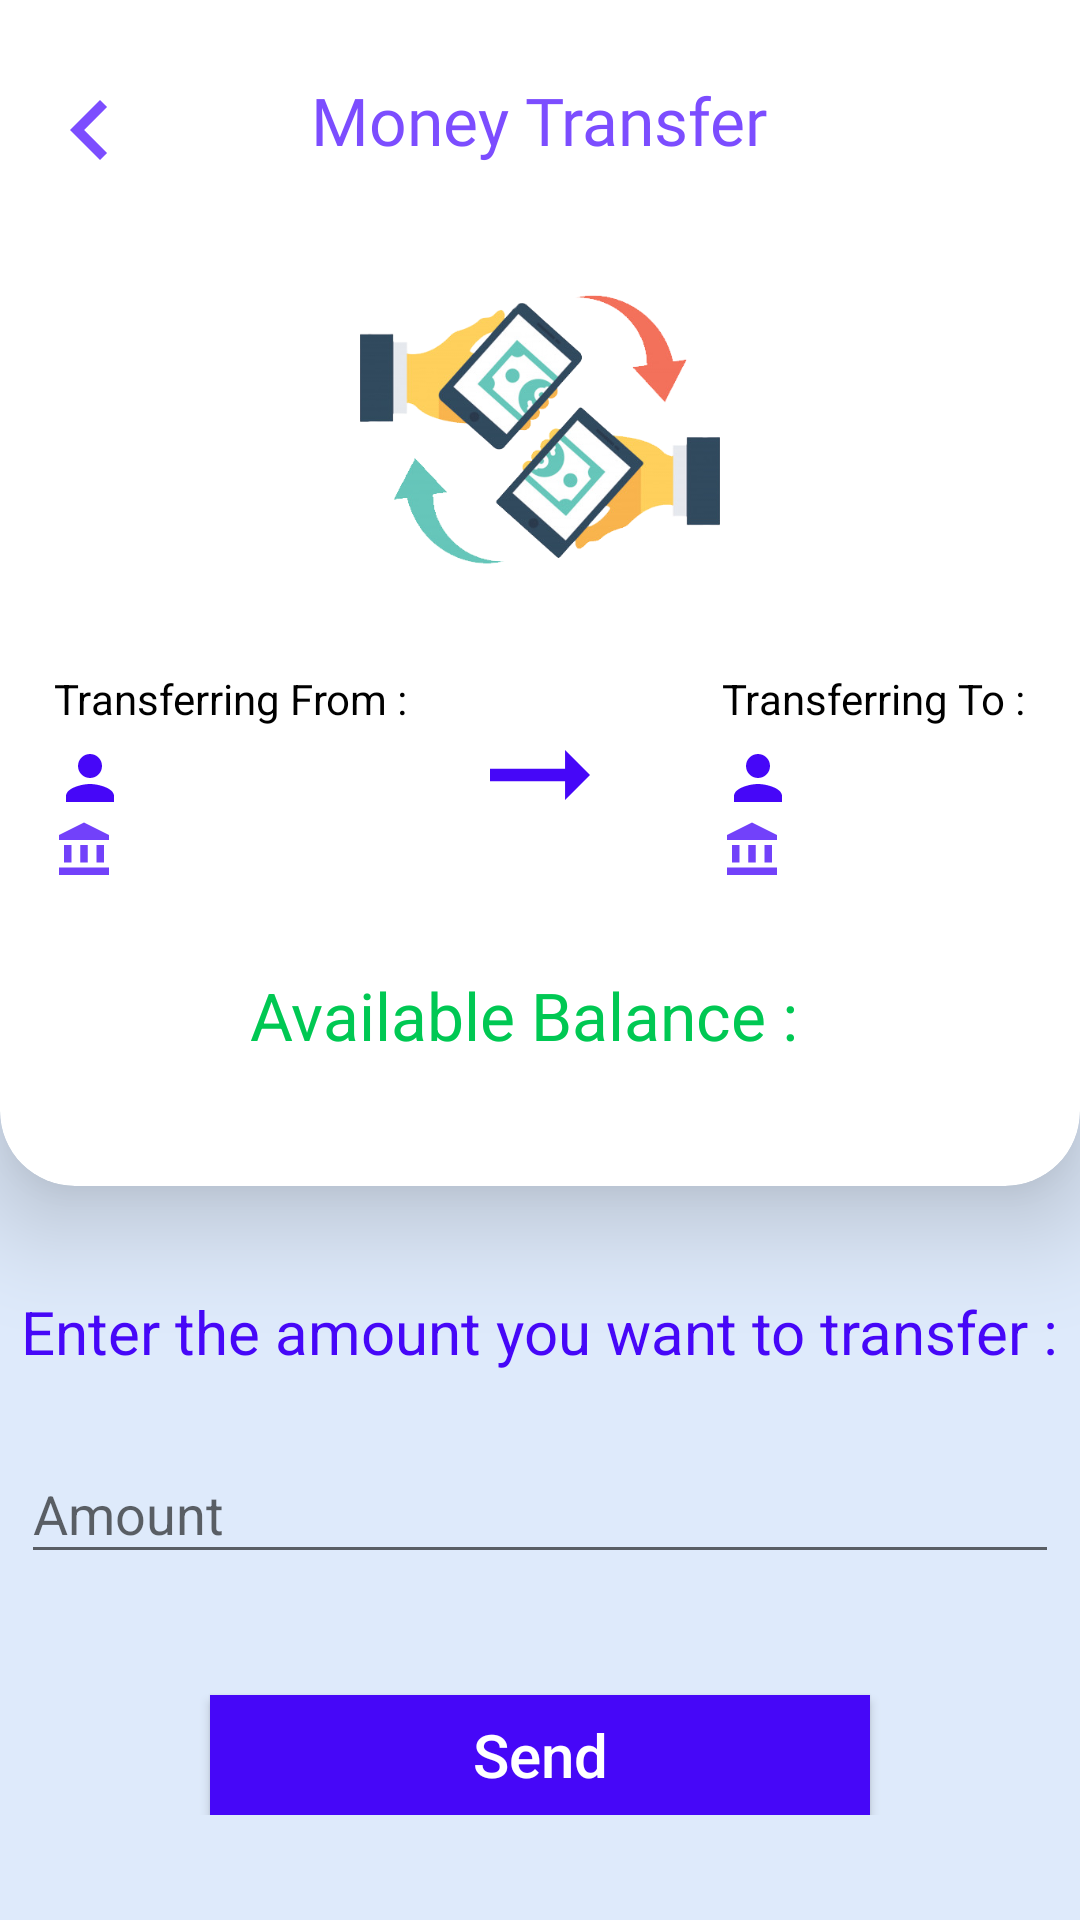

Locate icon controls on the screen. Image size 1080w x 1920h, boxes as (x1, y1, x2, y2).
back: (70, 100, 107, 160)
right: (490, 750, 590, 800)
